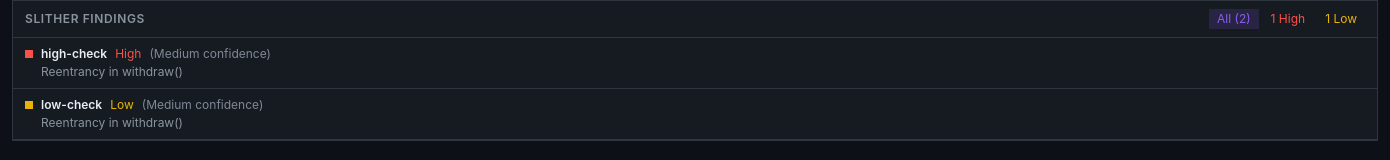
Test case: SlitherFindingsPanel › filters by clicking a severity pill
// Click the "1 Low" pill to filter to Low only.
Click the button "1 Low" at (1341, 19), box [1317,9,1365,29]
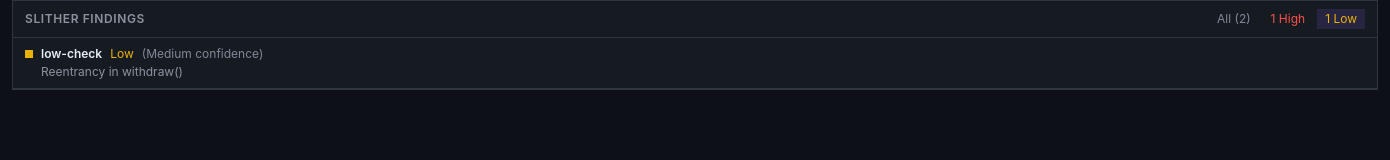
Now the text "low-check" is shown, box [41,46,102,62]
Now the button "high-check" is gone
// Toggling it again restores all.
Click the button "1 Low" at (1341, 19), box [1317,9,1365,29]
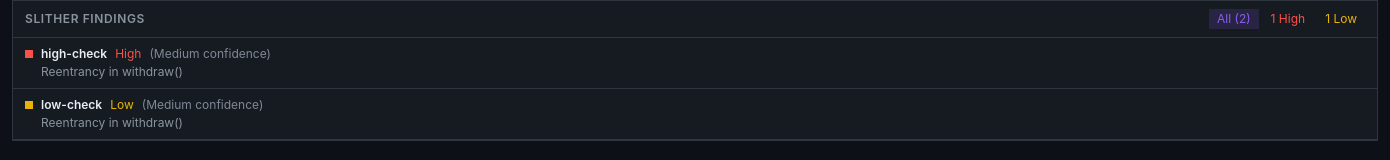
Now the text "high-check" is shown, box [41,46,107,62]
